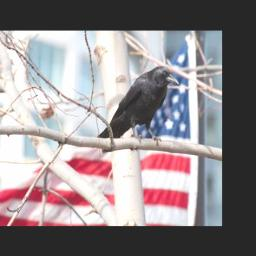Crow: (95, 64, 179, 149)
